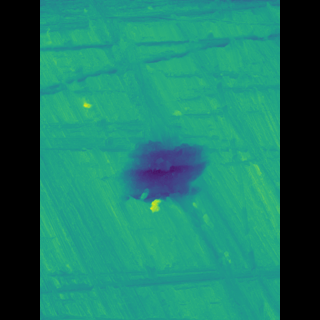Loch: (188, 1, 248, 320), (123, 135, 201, 217), (69, 264, 250, 298)
